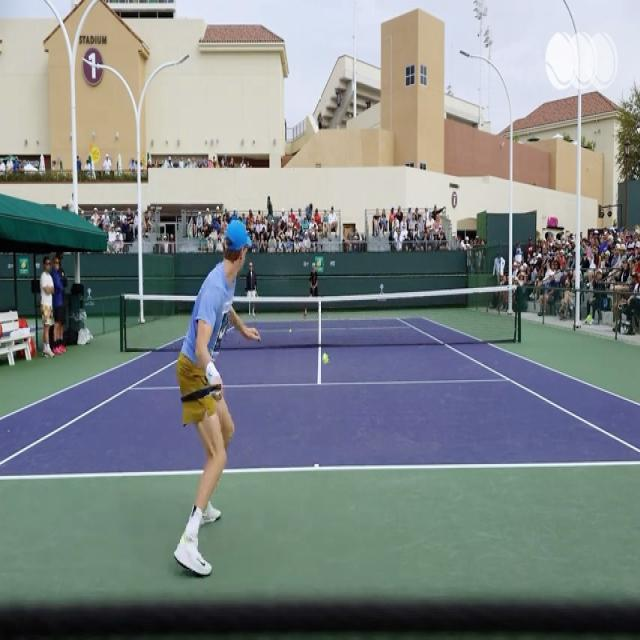forehand-stroke: (167, 224, 263, 581)
